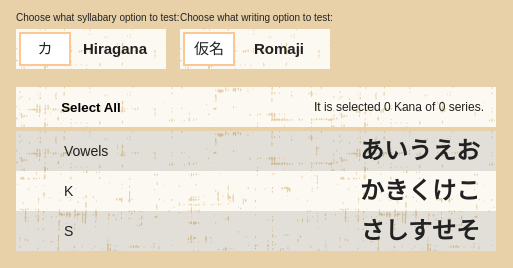
Test: Setup page › switches the syllabary test to katakana
The image size is (513, 268).
Expected: the text with class "after" reads "Hiragana", x1=83 y1=40 x2=147 y2=57
Click the checkbox with id "test-what-switch". click: (91, 49)
box: x1=16 y1=29 x2=166 y2=69
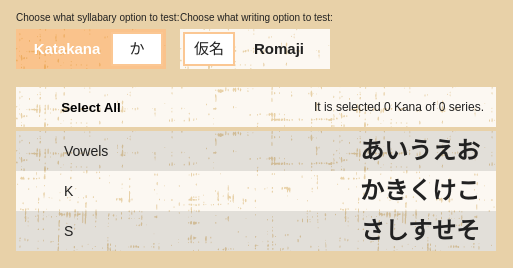
Result: the text with class "before" reads "Katakana" at x1=34 y1=40 x2=100 y2=57
